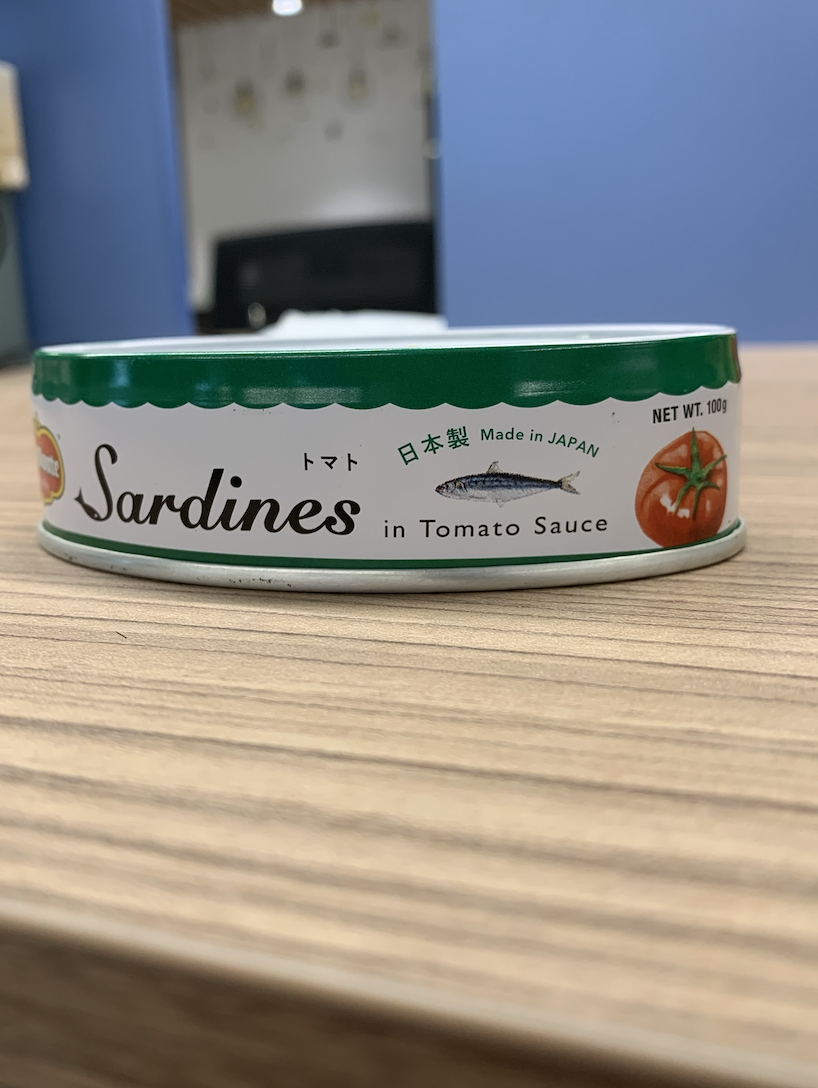sardines_100g-199g: (42, 352, 742, 567)
